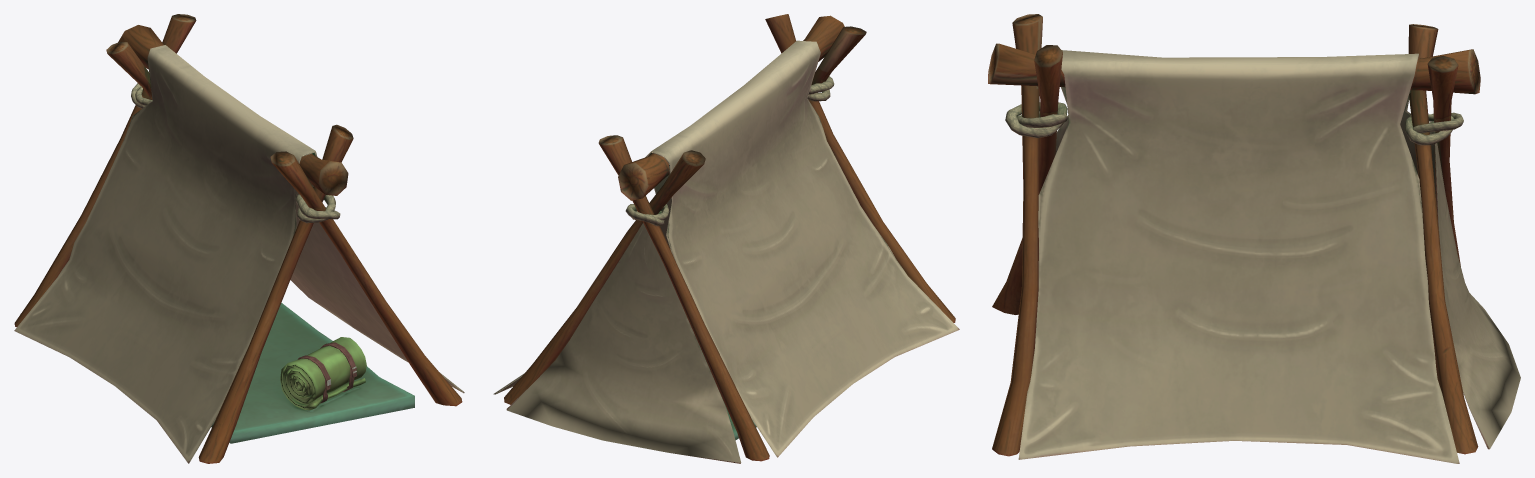
The model's file is styl_tent_LOD1.fbx.
3 views of the same model, side by side, from view 1: azimuth 30°, elevation 25°; view 2: azimuth 150°, elevation 25°; view 3: azimuth 270°, elevation 25° (orthographic). The views are drawn at different scales.
Visible parts, largest first — view 1: tent; view 2: tent; view 3: tent.
Boxes of the visible parts, x1,y1,x2,y2 form: tent: (14,14,464,463); tent: (493,14,959,463); tent: (988,14,1520,463).
Bounding box in the file's own units: 184 × 179 × 248.
